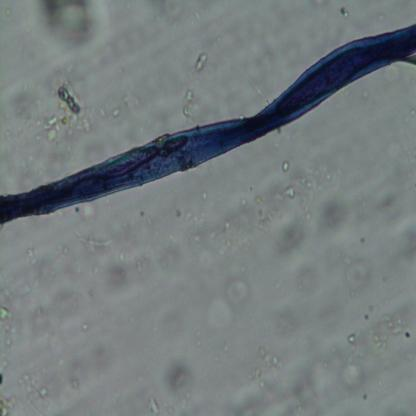Background material: (12, 240, 87, 338), (337, 299, 416, 390), (153, 191, 245, 269), (246, 12, 310, 72), (36, 0, 108, 52), (37, 74, 92, 139), (96, 237, 167, 287), (200, 271, 250, 341), (375, 183, 416, 263), (298, 146, 344, 214), (0, 139, 63, 183), (59, 346, 104, 402), (244, 180, 288, 233), (276, 363, 319, 411), (314, 191, 354, 242), (6, 76, 42, 129), (161, 360, 198, 404), (273, 216, 309, 260), (386, 134, 416, 177), (70, 230, 115, 258), (255, 348, 278, 398), (18, 372, 49, 408), (344, 260, 374, 294), (268, 301, 298, 334), (149, 1, 196, 22), (109, 93, 143, 121), (0, 295, 18, 346), (379, 56, 406, 83), (298, 265, 320, 294), (182, 90, 198, 121), (0, 394, 18, 414), (193, 52, 209, 73), (285, 182, 297, 199), (339, 7, 350, 21), (280, 160, 290, 172)
Cotton: (0, 24, 416, 225)
